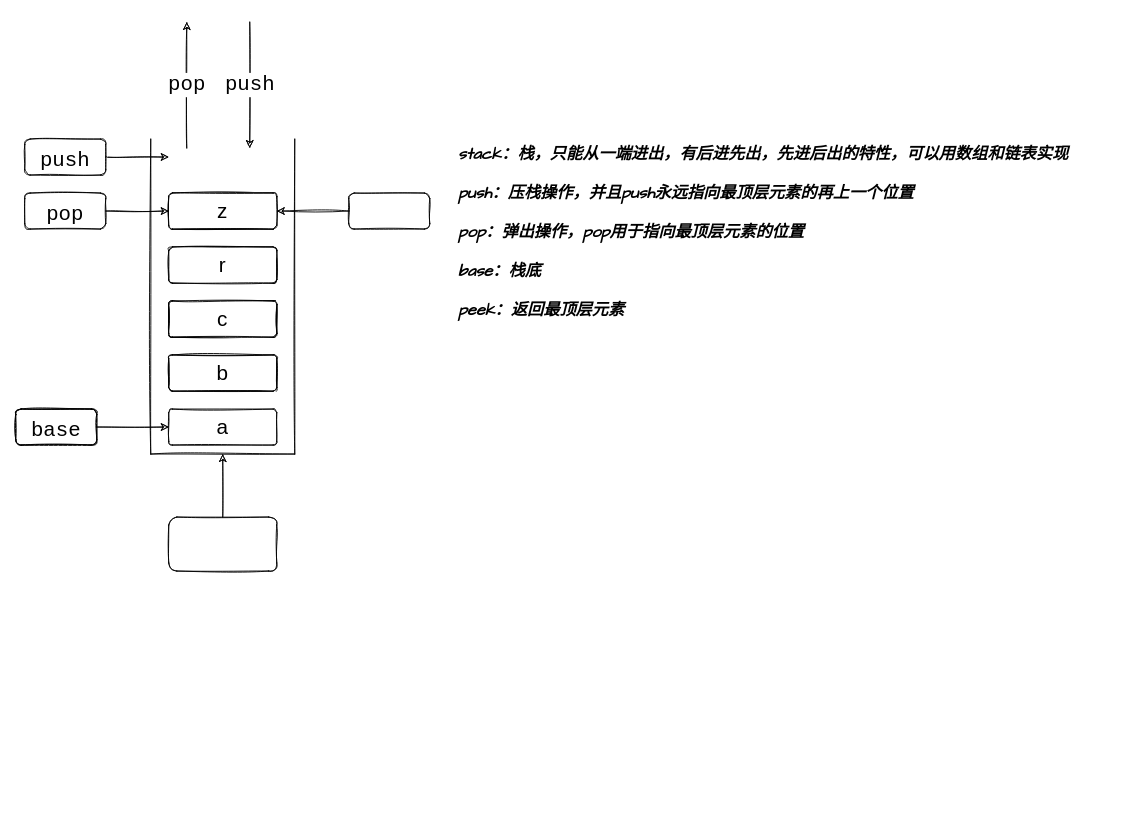
Image size: 1139x821. Some labels were removed from this diagram. The shapes that lost their labels are listed below. From the top down, each one's centre as x and y in pixels, then its label:
At point (389, 210): "peek".
At point (222, 543): "stack".
